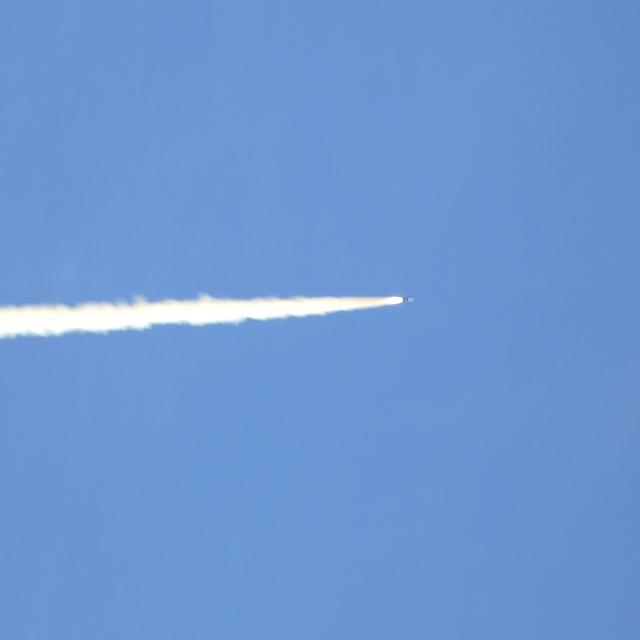Rocket: (402, 297, 414, 303)
